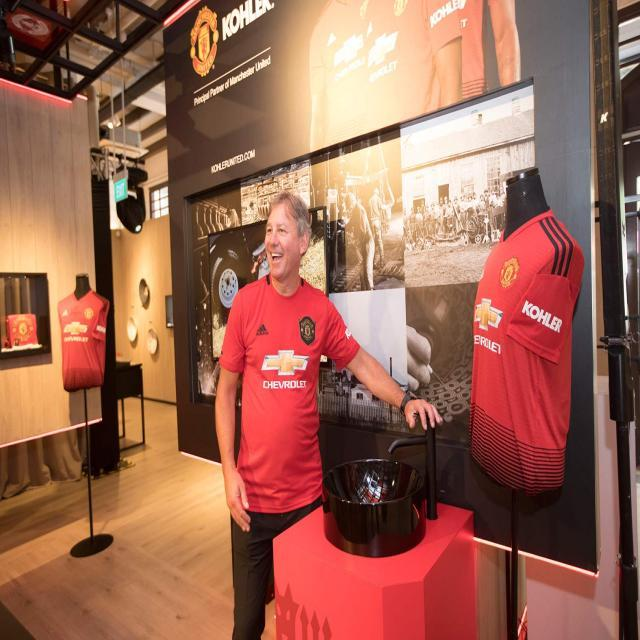Adidas: (255, 317, 272, 337)
Chevrolet: (258, 351, 312, 391), (474, 296, 504, 356), (62, 320, 90, 348)
Kohler: (520, 291, 564, 338)
